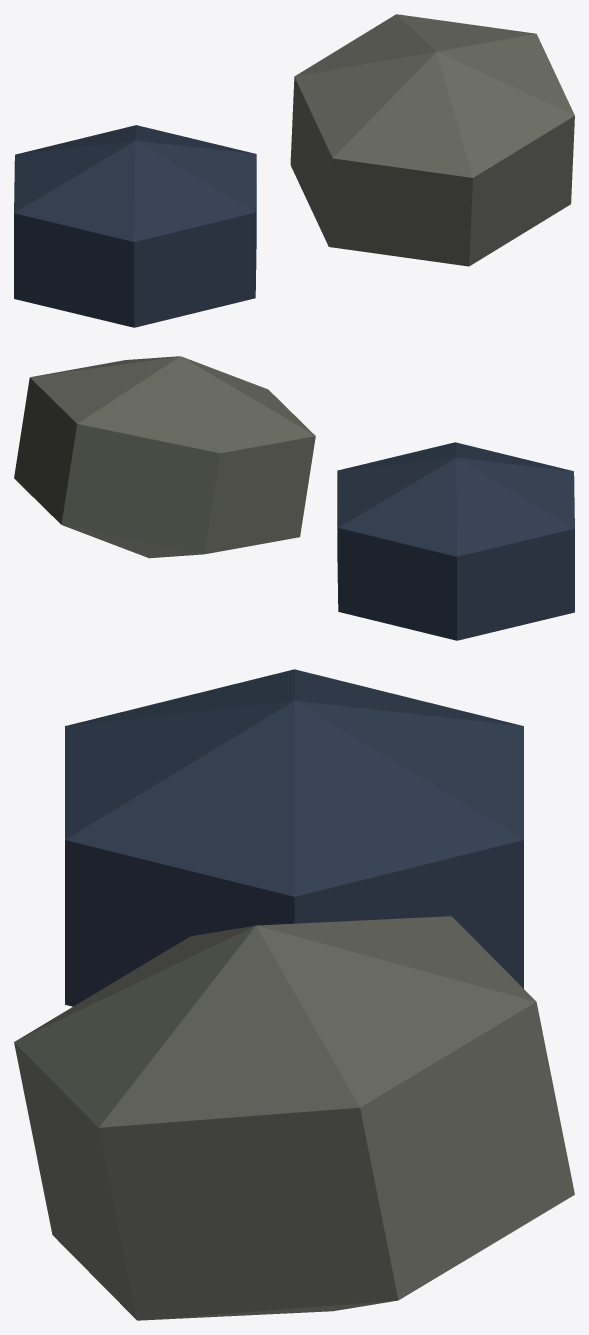
Rendered from ore-pile-1.glb.
The picture shows the model from 3 angles, top to bottom: view 1: azimuth 30°, elevation 25°; view 2: azimuth 150°, elevation 25°; view 3: azimuth 270°, elevation 25°; orthographic projection. The views are drawn at different scales.
Parts seen in each view (by area): view 1: ore_pile; view 2: ore_pile; view 3: ore_pile.
Boxes of the visible parts, bbox=[...] form: ore_pile: bbox=[14, 14, 574, 327]; ore_pile: bbox=[14, 356, 574, 640]; ore_pile: bbox=[14, 669, 574, 1320].
Size of the model in its own units: 0.4221 by 0.1453 by 0.1955.
